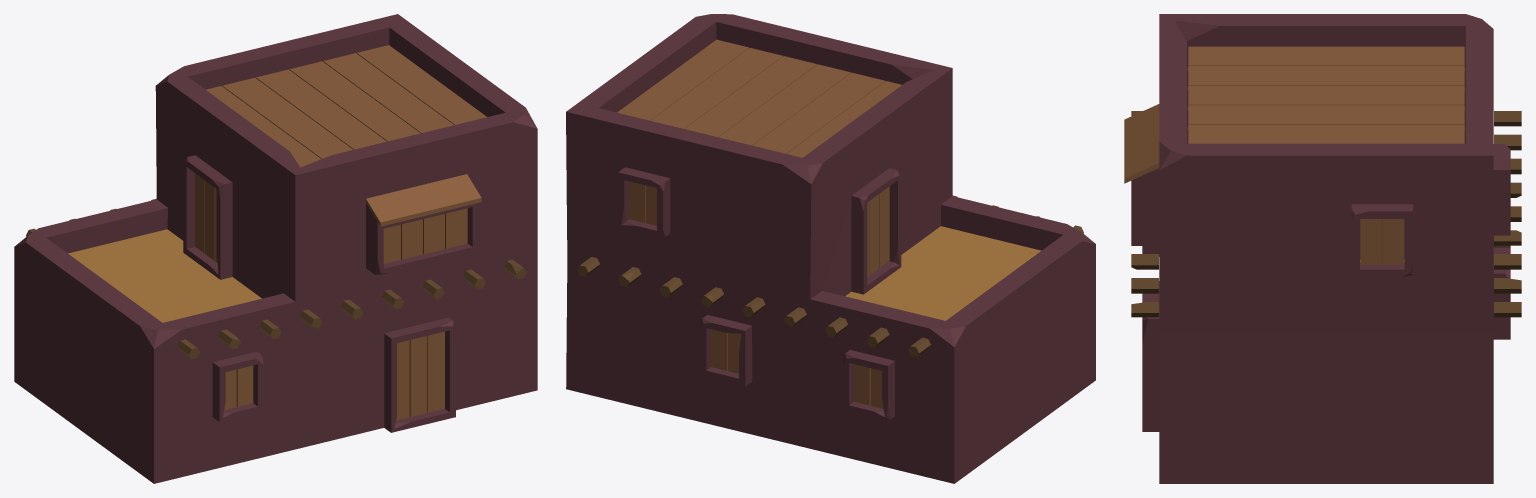
Rendered from house-egypt-big.fbx.
3 views of the same model, side by side, from view 1: azimuth 30°, elevation 25°; view 2: azimuth 150°, elevation 25°; view 3: azimuth 270°, elevation 25° (orthographic). The views are drawn at different scales.
Parts seen in each view (by area): view 1: house-egypt-big; view 2: house-egypt-big; view 3: house-egypt-big.
Boxes of the visible parts, <box> form: house-egypt-big: <box>14,14,537,483</box>; house-egypt-big: <box>566,14,1095,483</box>; house-egypt-big: <box>1124,14,1521,483</box>.
Bounding box in the file's own units: 9.82 × 6.5 × 7.13.
